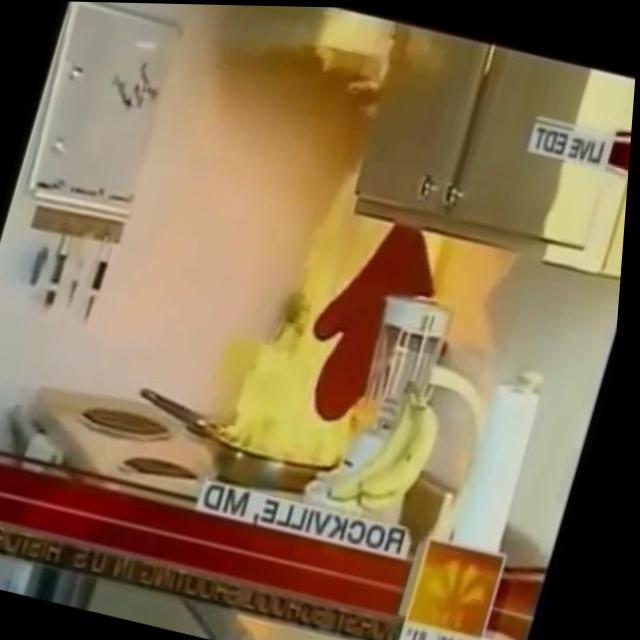fire: (217, 160, 422, 479)
